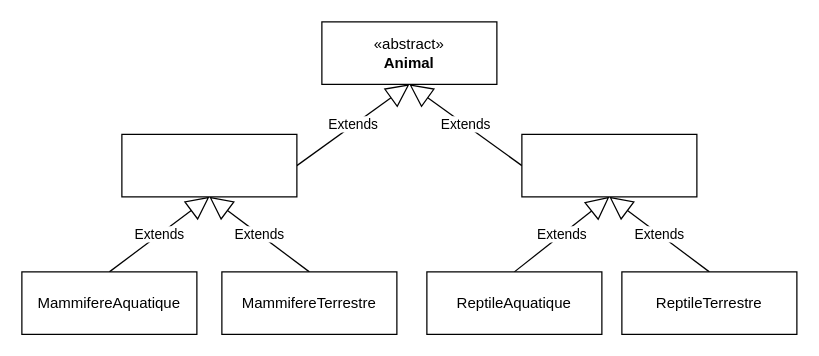
This 819x356 diagram has some shape labels left out. The shapes that lost their labels are listed below. From the top down, each one's box as (x1, y1, x2, y2) in pixels, then its label:
(121, 133, 297, 197): «abstract» Mammifere
(521, 133, 697, 197): «abstract» Reptile
